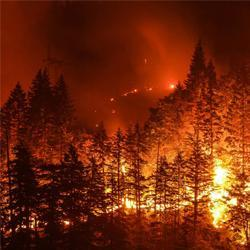fire: (209, 159, 232, 225)
